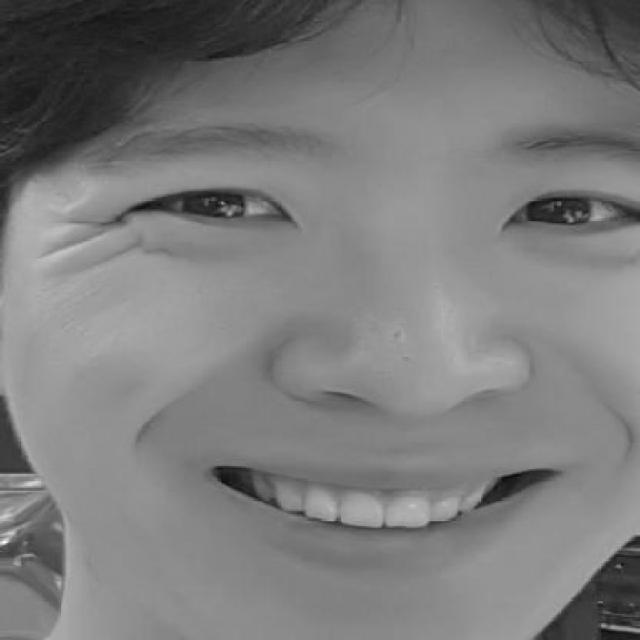happy: (72, 103, 640, 575)
